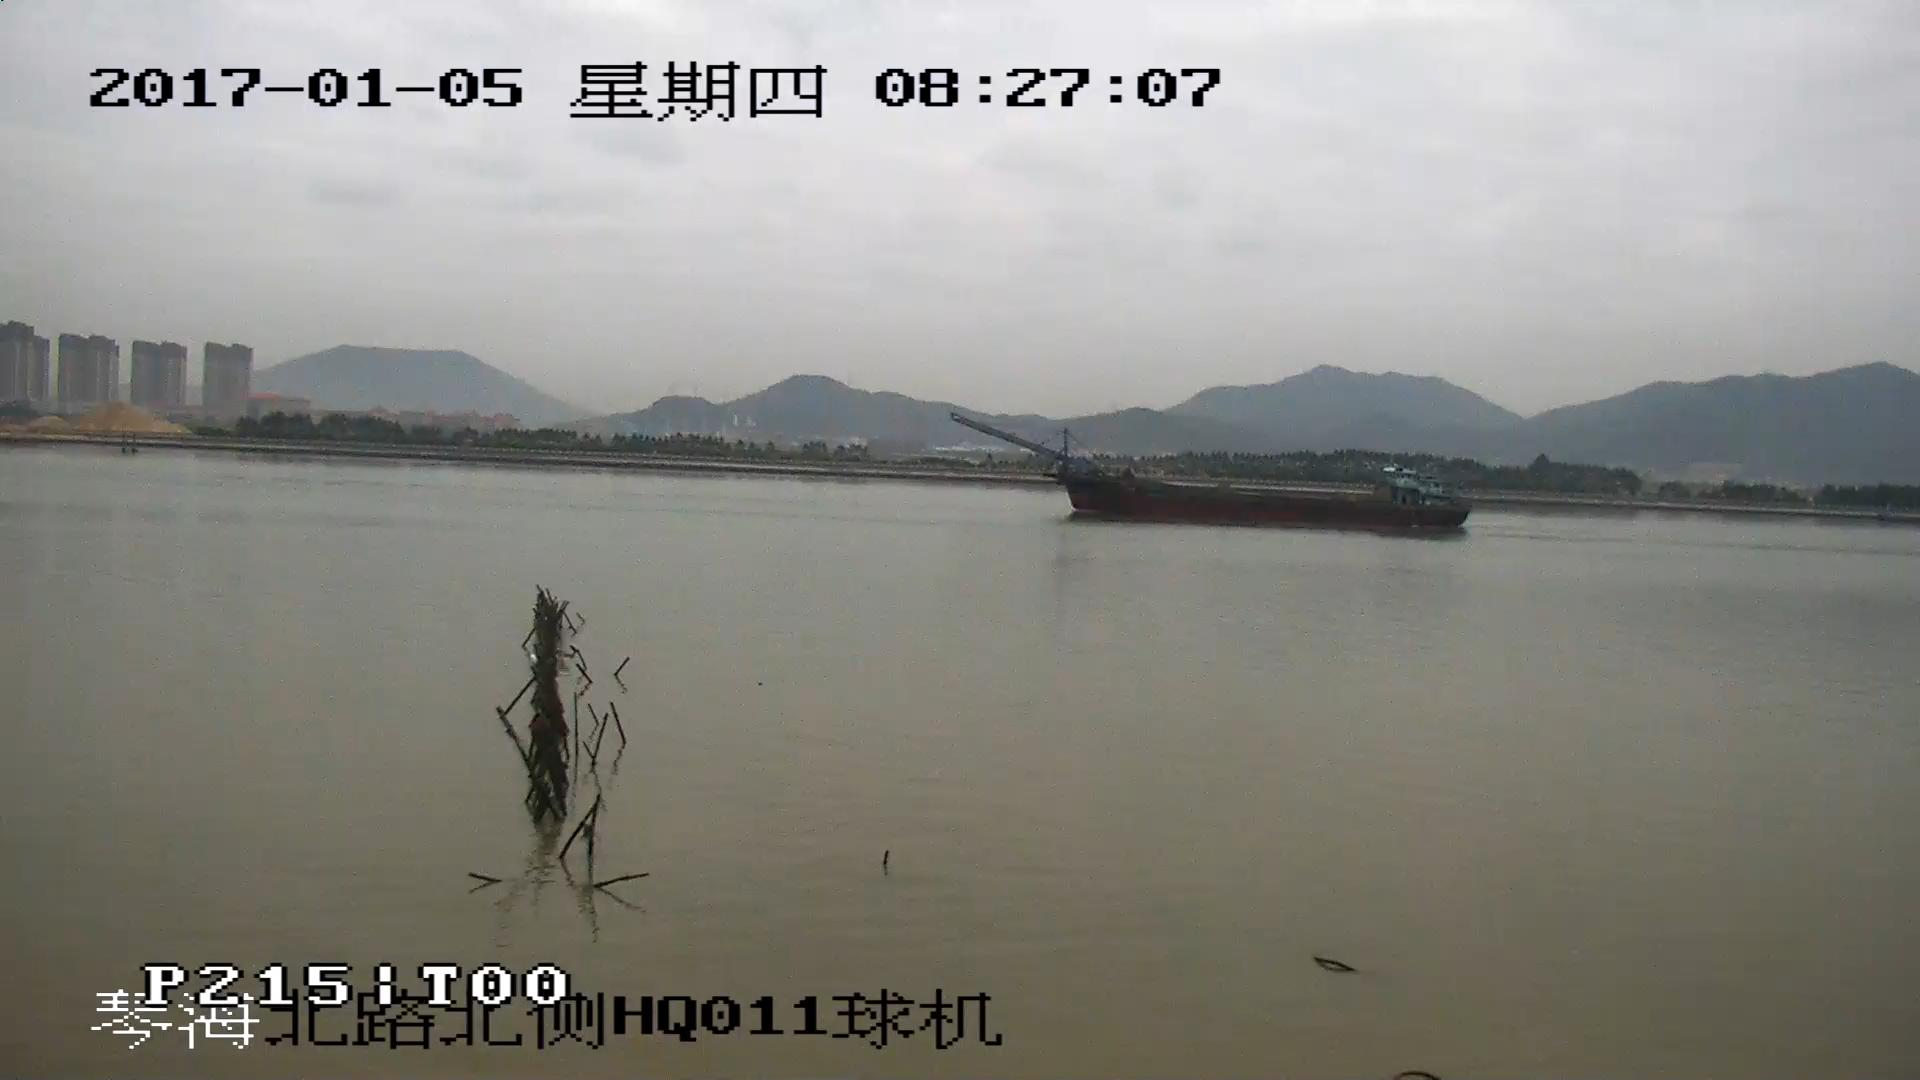bulk cargo carrier: (954, 414, 1475, 524)
